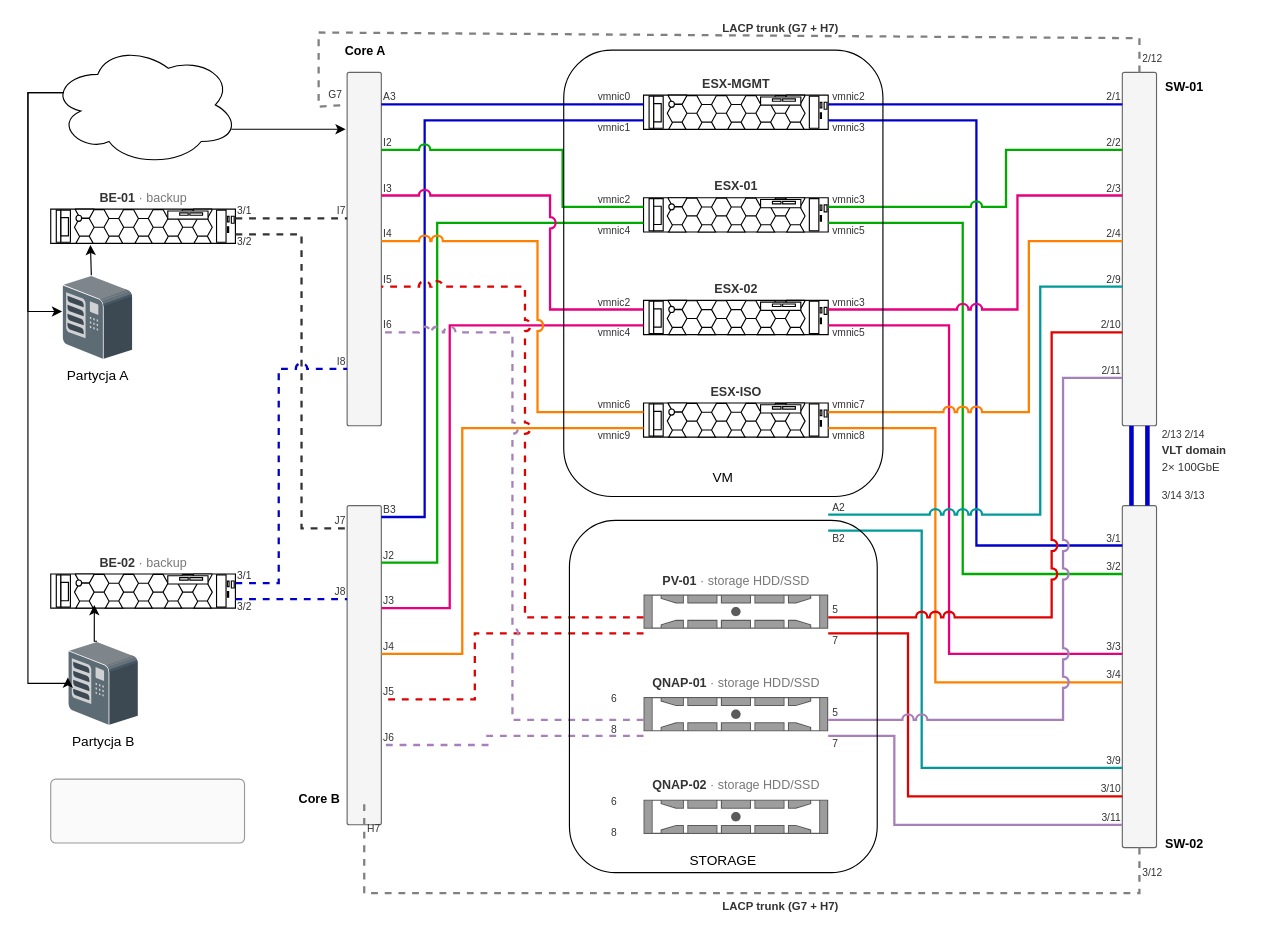
Image size: 1285x933. Some labels were removed from this diagram. The centre of each missing label's shape, as x and y in pixels:
Links VLT: 2× 100GbE all other links: 10GbE: the point at 147,810
user land: the point at 144,104
